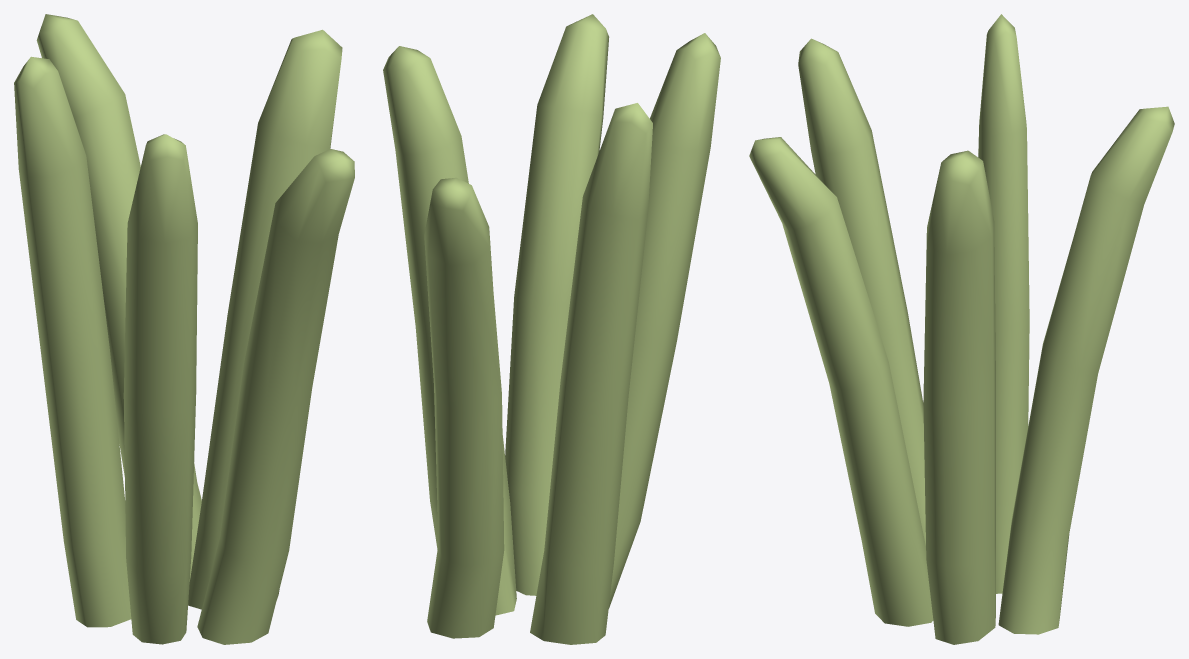
The model's file is Grass_08.fbx.
3 views of the same model, side by side, from view 1: azimuth 30°, elevation 25°; view 2: azimuth 150°, elevation 25°; view 3: azimuth 270°, elevation 25° (orthographic). The views are drawn at different scales.
Visible parts, largest first — view 1: polySurface883; view 2: polySurface883; view 3: polySurface883.
Boxes of the visible parts, x1,y1,x2,y2 form: polySurface883: (14,14,354,644); polySurface883: (383,14,720,644); polySurface883: (749,14,1174,644).
Bounding box in the file's own units: 29.66 × 54.32 × 39.49.
